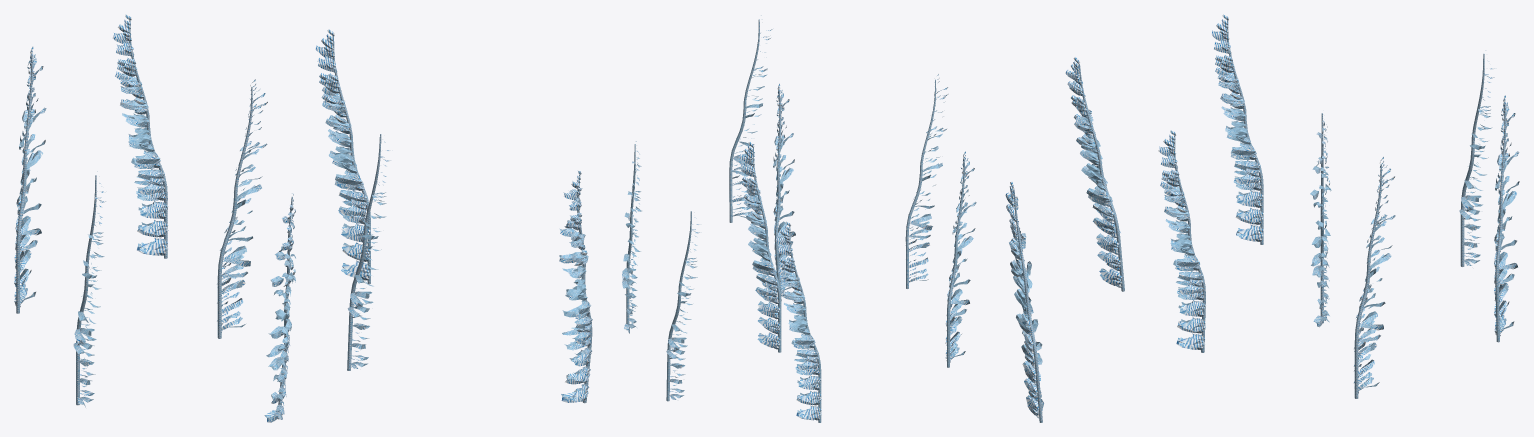
The model's file is kelpModel.glb.
3 views of the same model, side by side, from view 1: azimuth 30°, elevation 25°; view 2: azimuth 150°, elevation 25°; view 3: azimuth 270°, elevation 25° (orthographic). The views are drawn at different scales.
Parts seen in each view (by area): view 1: 75_150__Copy__1_4, 75_150__Copy__1, 75_150__Copy__1_3, 75_150__Copy__1_8, 75_150__Copy__1_5, 75_150__Copy__1_2, 75_150__Copy__1_7, 75_150__Copy__1_6, Stem_2, Stem_4, Stem_6, Stem_5 (+1 smaller); view 2: 75_150__Copy__1_8, 75_150__Copy__1_5, 75_150__Copy__1_7, 75_150__Copy__1_2, 75_150__Copy__1_6, 75_150__Copy__1, 75_150__Copy__1_4, 75_150__Copy__1_3, Stem_7, Stem_5, Stem_8, Stem_6 (+4 smaller); view 3: 75_150__Copy__1_7, 75_150__Copy__1_6, 75_150__Copy__1_2, 75_150__Copy__1_3, 75_150__Copy__1, 75_150__Copy__1_4, 75_150__Copy__1_5, 75_150__Copy__1_8, Stem, Stem_3, Stem_7, Stem_8 (+3 smaller).
Part boxes in pixels (box(x1,y1,x2,y2)): 75_150__Copy__1_4: box(112, 14, 168, 255); 75_150__Copy__1: box(315, 29, 370, 280); 75_150__Copy__1_3: box(559, 170, 592, 402); 75_150__Copy__1_8: box(14, 46, 46, 307); 75_150__Copy__1_5: box(217, 79, 267, 332); 75_150__Copy__1_2: box(264, 193, 295, 422); 75_150__Copy__1_7: box(73, 171, 105, 407); 75_150__Copy__1_6: box(347, 139, 390, 368); Stem_2: box(217, 87, 252, 338); Stem_4: box(16, 55, 32, 313); Stem_6: box(347, 134, 381, 370); Stem_5: box(76, 175, 96, 405); 75_150__Copy__1_8: box(775, 221, 821, 420); 75_150__Copy__1_5: box(739, 142, 780, 349); 75_150__Copy__1_7: box(945, 151, 976, 362); 75_150__Copy__1_2: box(905, 74, 948, 282); 75_150__Copy__1_6: box(773, 83, 795, 296); 75_150__Copy__1: box(622, 141, 641, 333); 75_150__Copy__1_4: box(666, 212, 700, 399); 75_150__Copy__1_3: box(730, 15, 772, 217); Stem_7: box(729, 19, 759, 222); Stem_5: box(947, 158, 964, 367); Stem_8: box(905, 79, 936, 288); Stem_6: box(775, 90, 781, 300); 75_150__Copy__1_7: box(1211, 14, 1263, 241); 75_150__Copy__1_6: box(1158, 130, 1205, 349); 75_150__Copy__1_2: box(1065, 57, 1122, 287); 75_150__Copy__1_3: box(1005, 181, 1044, 418); 75_150__Copy__1: box(1353, 156, 1395, 393); 75_150__Copy__1_4: box(1494, 95, 1519, 336); 75_150__Copy__1_5: box(1310, 120, 1331, 327); 75_150__Copy__1_8: box(1459, 50, 1494, 265); Stem: box(1354, 164, 1381, 398); Stem_3: box(1495, 103, 1505, 342); Stem_7: box(1013, 189, 1042, 422); Stem_8: box(1078, 64, 1124, 291).
Bounding box in the file's own units: 0.1701 × 0.1056 × 0.203.
1 material, 1 textured.
